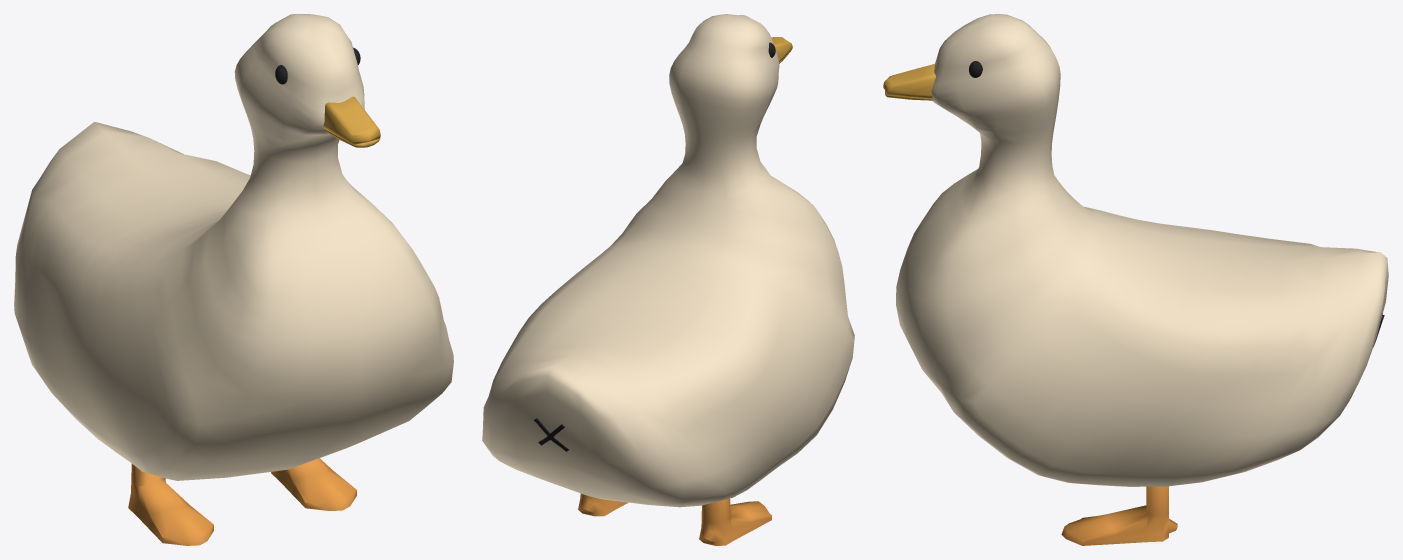
File: call_duck.glb
3 views of the same model, side by side, from view 1: azimuth 30°, elevation 25°; view 2: azimuth 150°, elevation 25°; view 3: azimuth 270°, elevation 25° (orthographic). The views are drawn at different scales.
Parts seen in each view (by area): view 1: body, rightFoot, leftFoot, nose; view 2: body, rightFoot, leftFoot; view 3: body, leftFoot, nose.
Boxes of the visible parts, <box> form: body: <box>14,14,453,480</box>; rightFoot: <box>128,463,213,545</box>; leftFoot: <box>271,458,356,510</box>; nose: <box>323,96,380,147</box>; body: <box>482,14,854,507</box>; rightFoot: <box>699,498,771,545</box>; leftFoot: <box>578,493,627,516</box>; body: <box>896,14,1388,486</box>; leftFoot: <box>1061,486,1177,545</box>; nose: <box>883,63,935,100</box>.
Size of the model in its own units: 0.5969 by 1.07 by 1.02.
